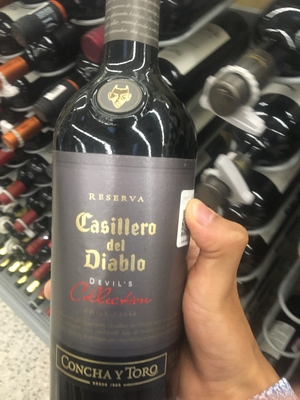casillero del diablo devils collection rojo: (46, 26, 197, 400)
